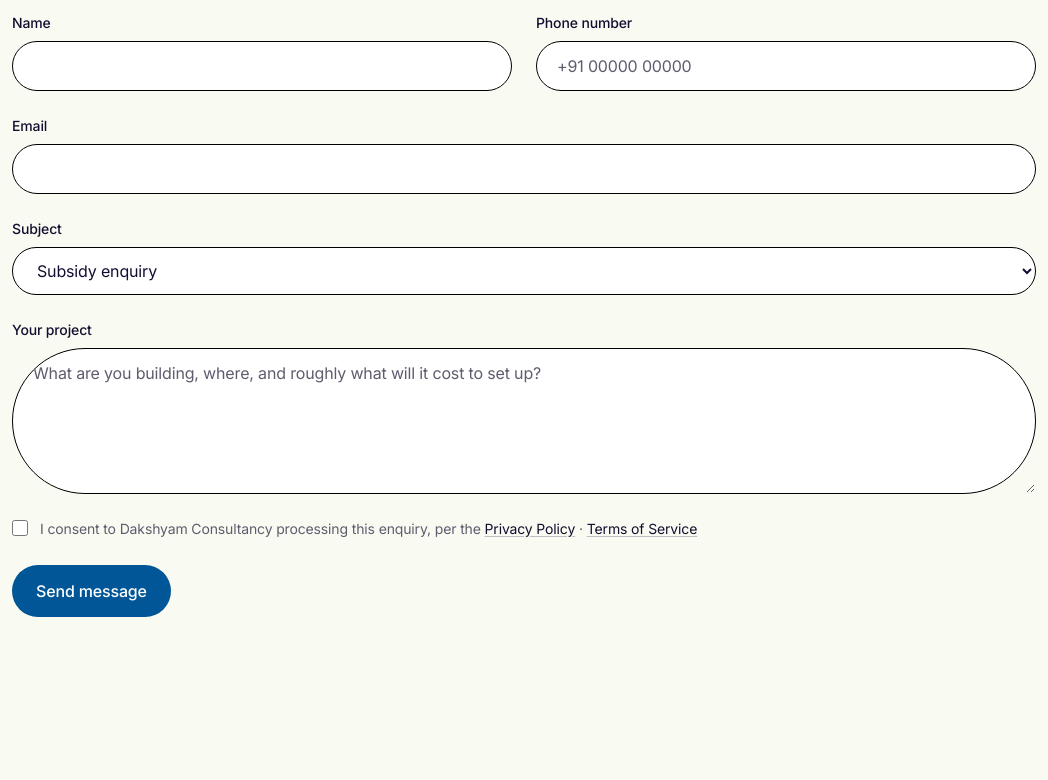
Scenario: ContactForm › tints a failed field's border with the alert colour
Step 1. Click the button "Send message" → {"x": 91, "y": 591}, box [12,565,171,617]
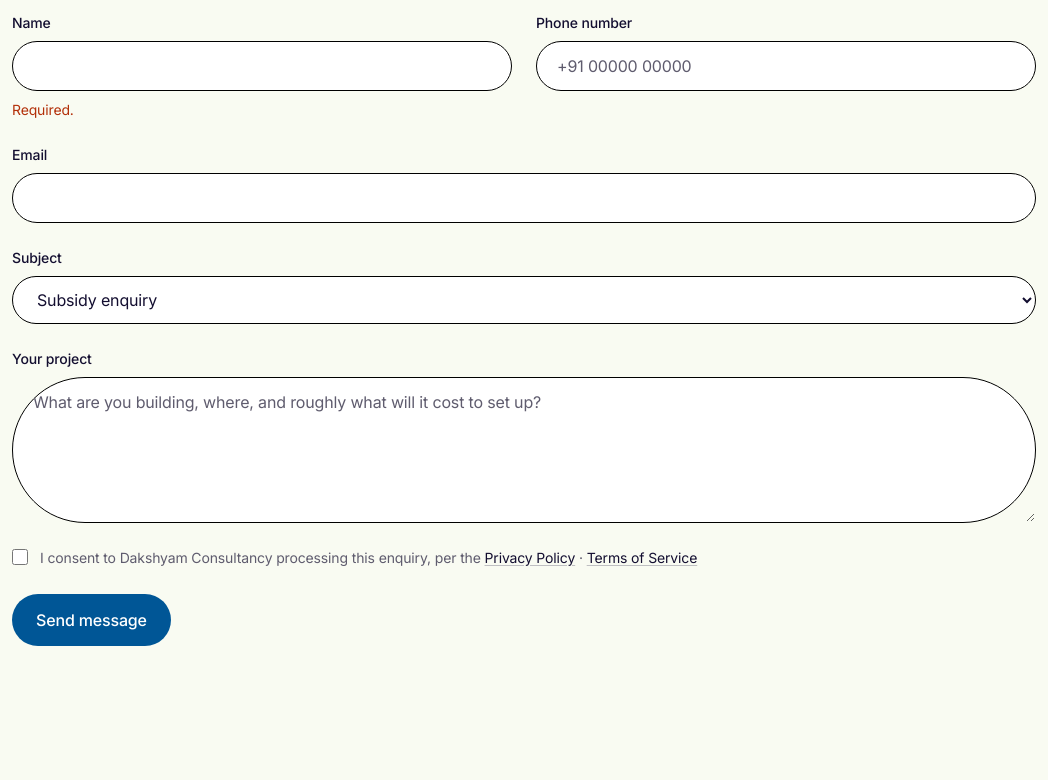
expect the text "Required." is shown: met, box [12,101,74,118]
